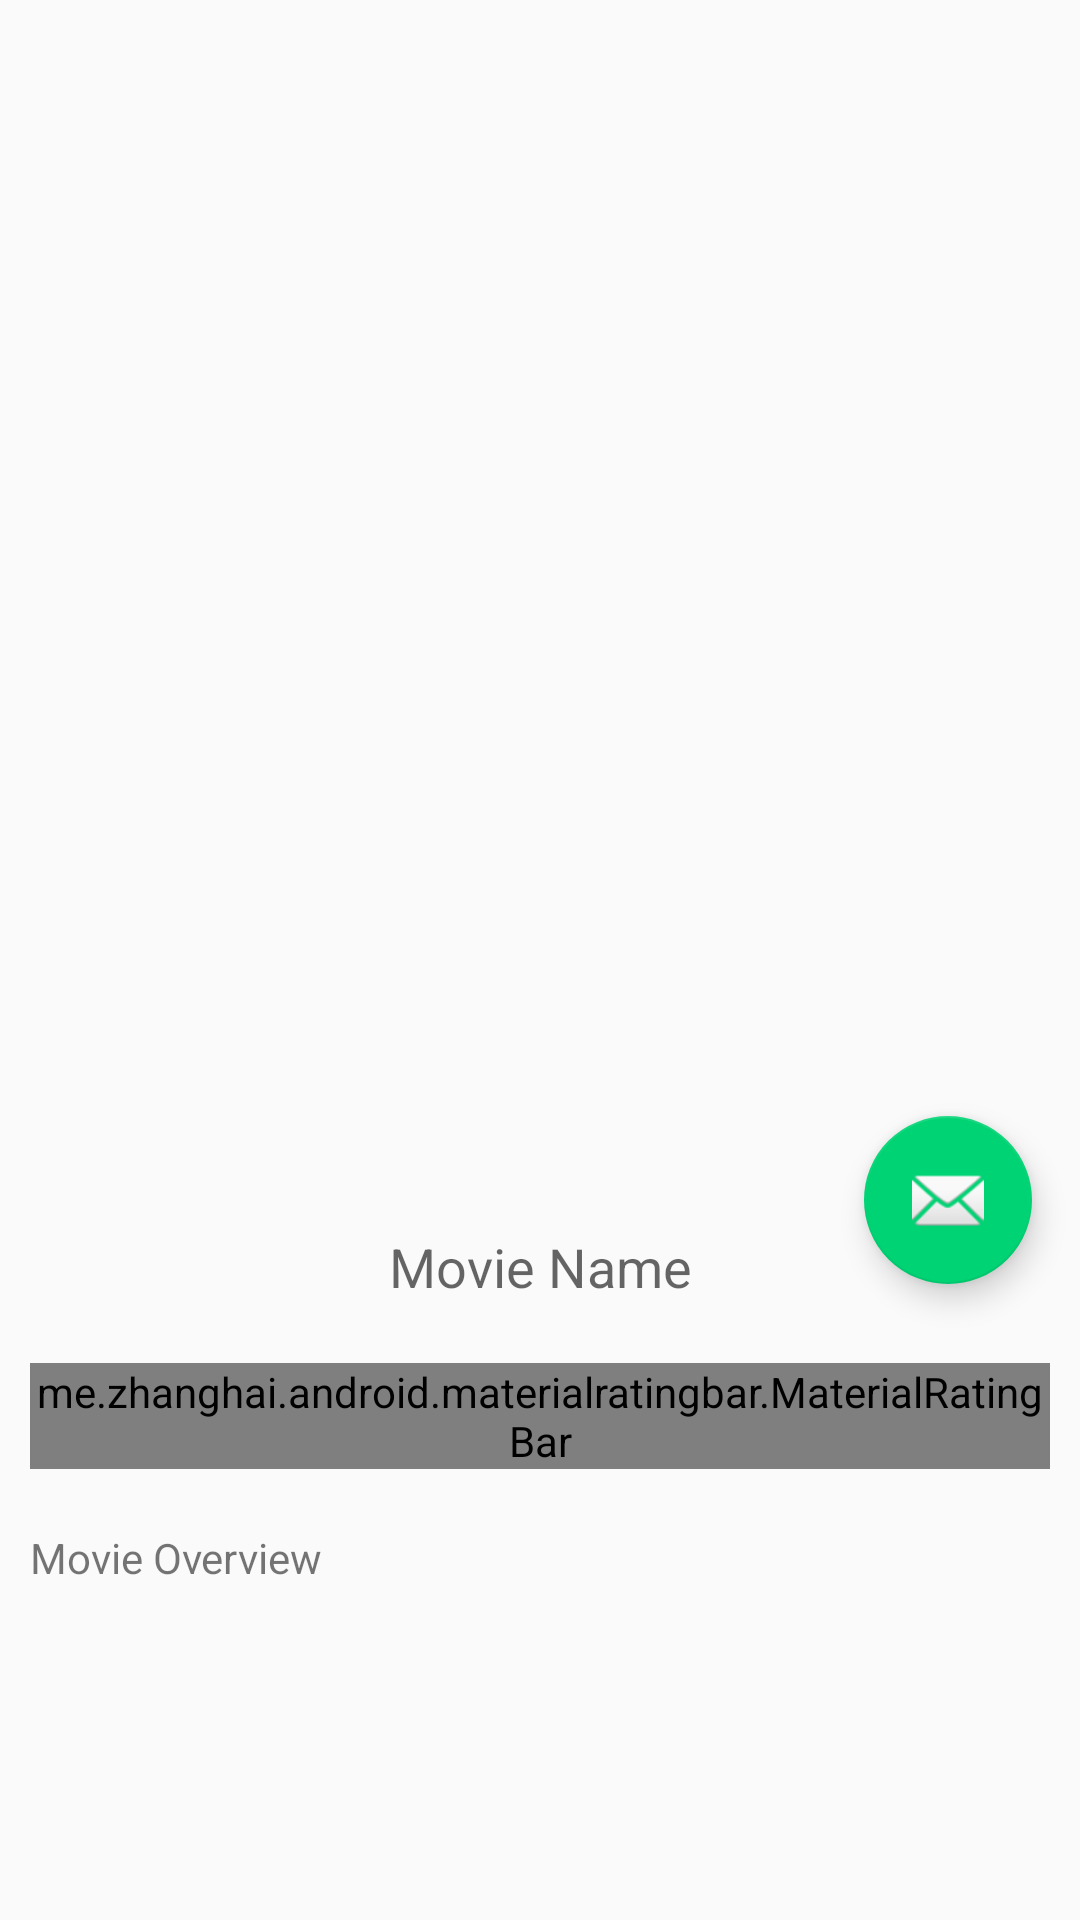

Screen size 1080x1920. Icon name, then its box in pixels as rect(x1, y1, x2, y2):
email: rect(864, 1116, 1032, 1284)
